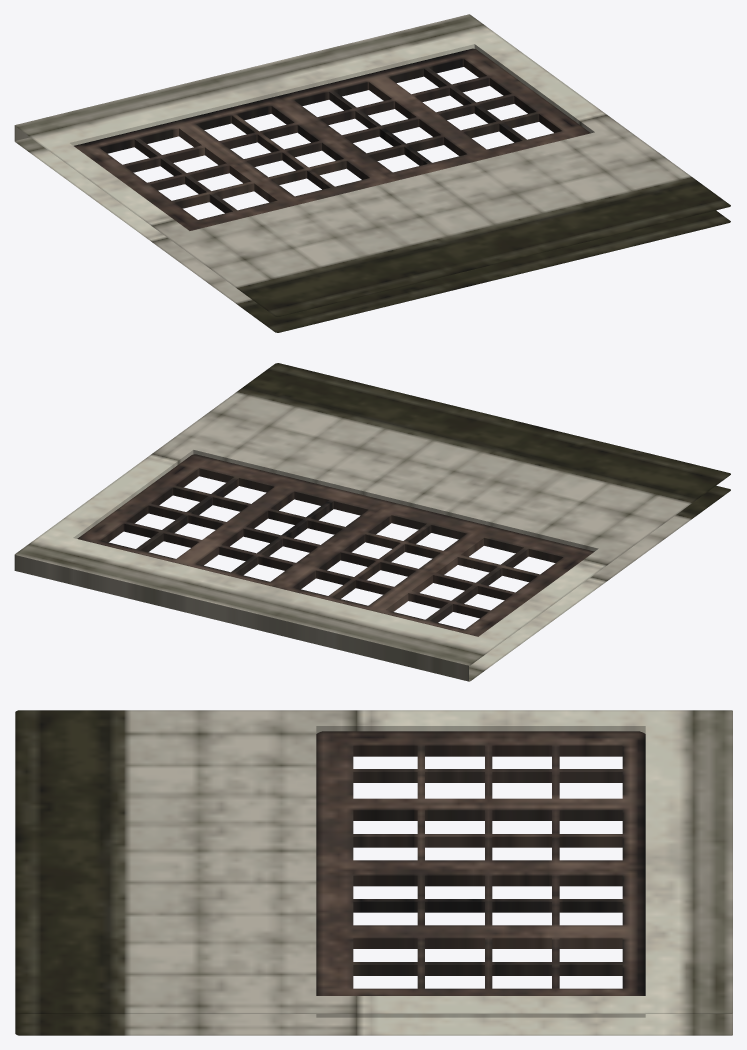
File: SM_EC_House_Wall_Window_0_3x3_3.fbx
3 views of the same model, one above another, from view 1: azimuth 30°, elevation 25°; view 2: azimuth 150°, elevation 25°; view 3: azimuth 270°, elevation 25° (orthographic). The views are drawn at different scales.
Visible parts, largest first — view 1: SM_EC_House_Wall_Window_0_3x3_3; view 2: SM_EC_House_Wall_Window_0_3x3_3; view 3: SM_EC_House_Wall_Window_0_3x3_3.
Part boxes in pixels (box(x1,y1,x2,y2)): SM_EC_House_Wall_Window_0_3x3_3: box(14, 14, 730, 332); SM_EC_House_Wall_Window_0_3x3_3: box(14, 363, 730, 681); SM_EC_House_Wall_Window_0_3x3_3: box(15, 710, 732, 1035).
Size of the model in its own units: 3 by 3 by 0.1.
